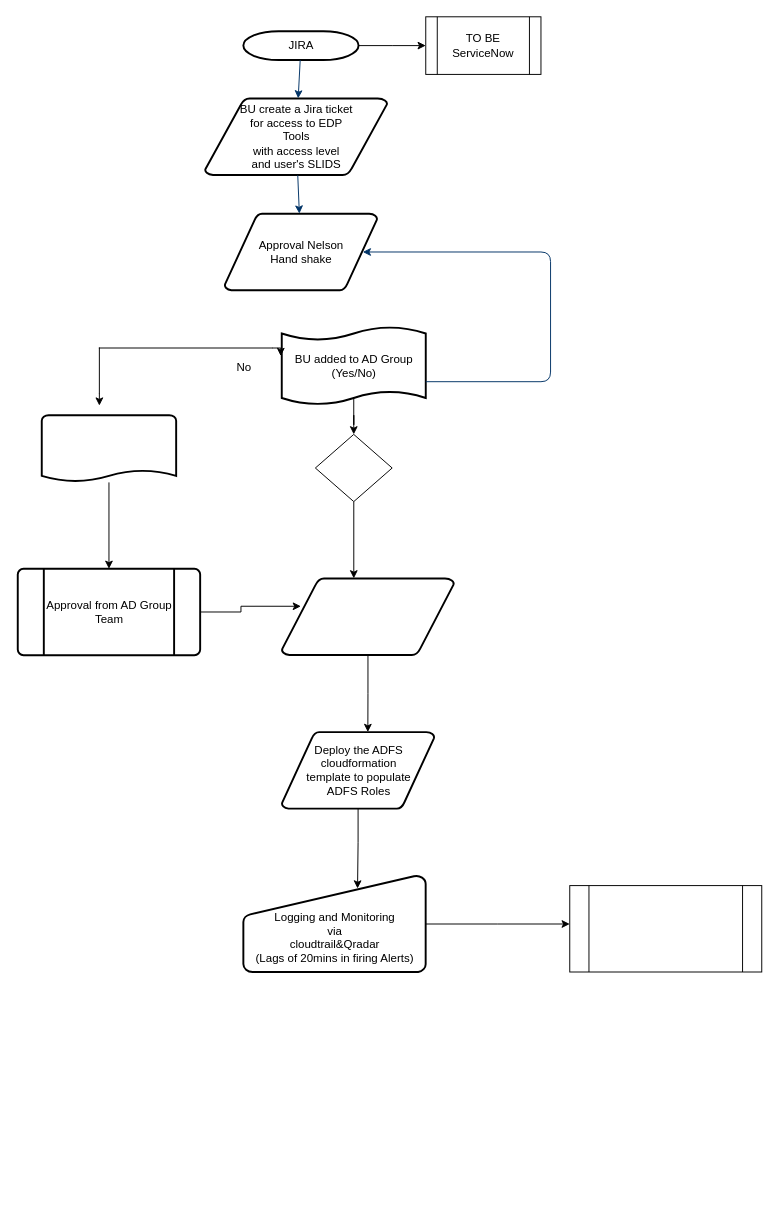
Some shapes in this 779 by 1208 pixel diagram are drawn without their labels. Each missing label, with the centre of its shape:
"Abhilash (Developer) writes the ADFS Role in cloudformation Template" goes at (x=367, y=616).
"open a ticket create a new BU to AD group if NO" goes at (x=108, y=448).
"TO BE Near Real Time Monitoring Recommended for security events" goes at (x=665, y=928).
"yes" goes at (x=353, y=467).
